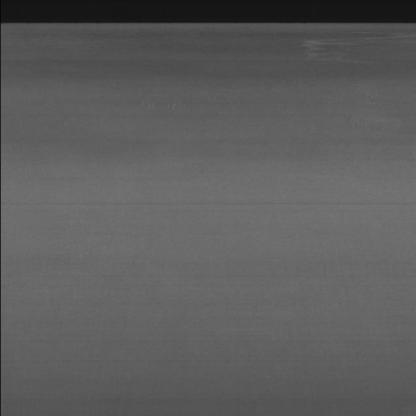silk_spot: (291, 29, 402, 69)
